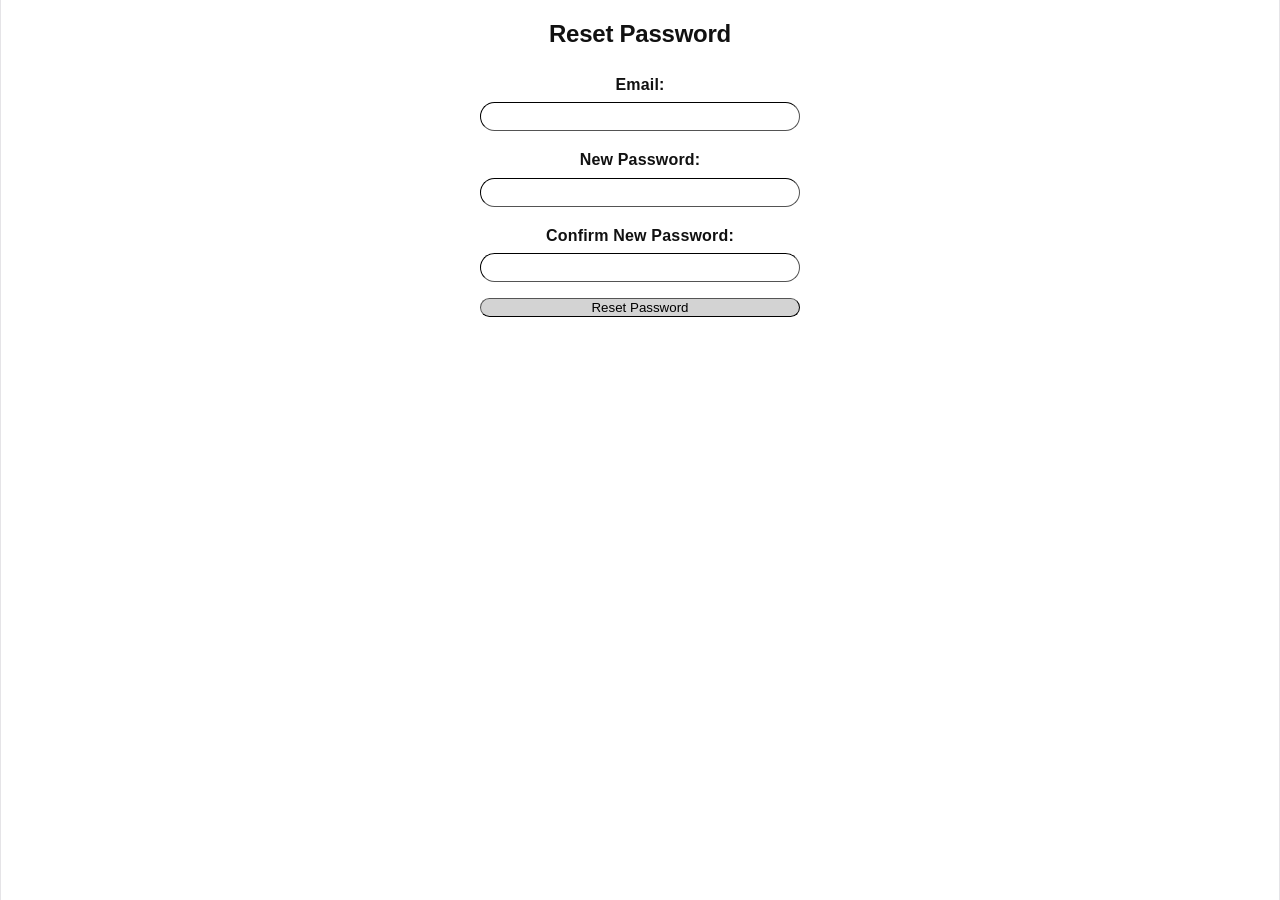
shows error when fields are empty
Click the button "Reset Password" at (640, 307), box [480,298,800,317]
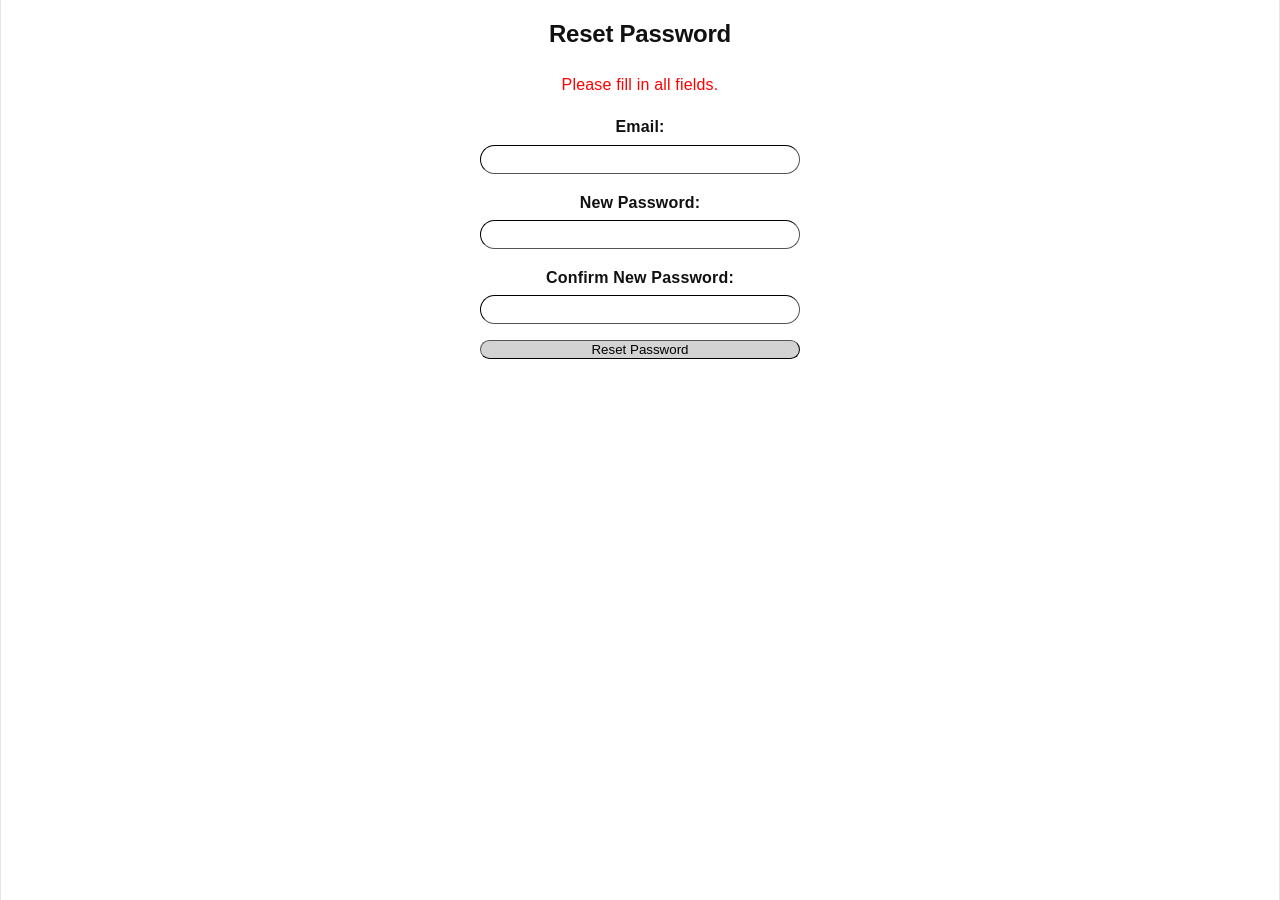
Now the text "Please fill in all fields." is shown, box [562,76,718,93]
